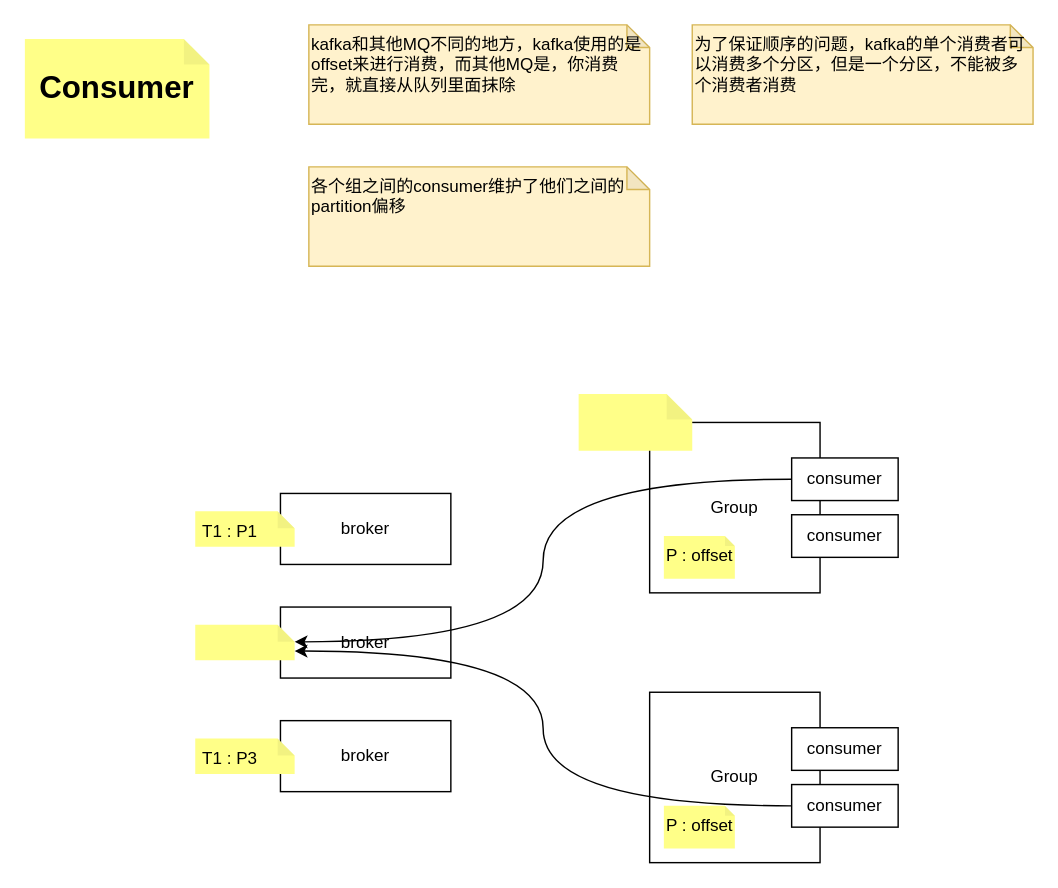
Some shapes in this 1058 by 888 pixel diagram are drawn without their labels. Each missing label, with the centre of its shape:
scalable: the point at 635,421
T1 : P2: the point at 244,642
